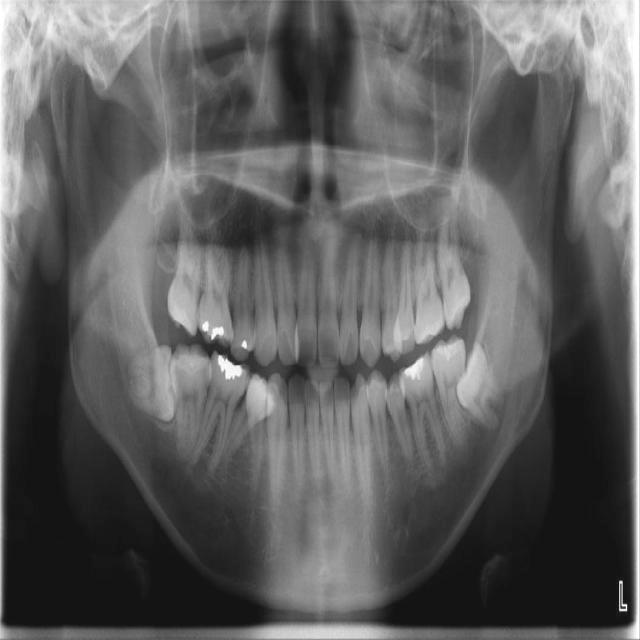Filling: (218, 356, 243, 380), (404, 358, 423, 380), (211, 326, 224, 340), (202, 320, 209, 332), (241, 339, 247, 349)
Periapical lesion: (473, 423, 486, 441), (196, 454, 205, 478)
impacted tooth: (456, 341, 506, 428), (124, 345, 175, 422)
